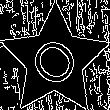O_SE: (23, 28, 86, 93)
